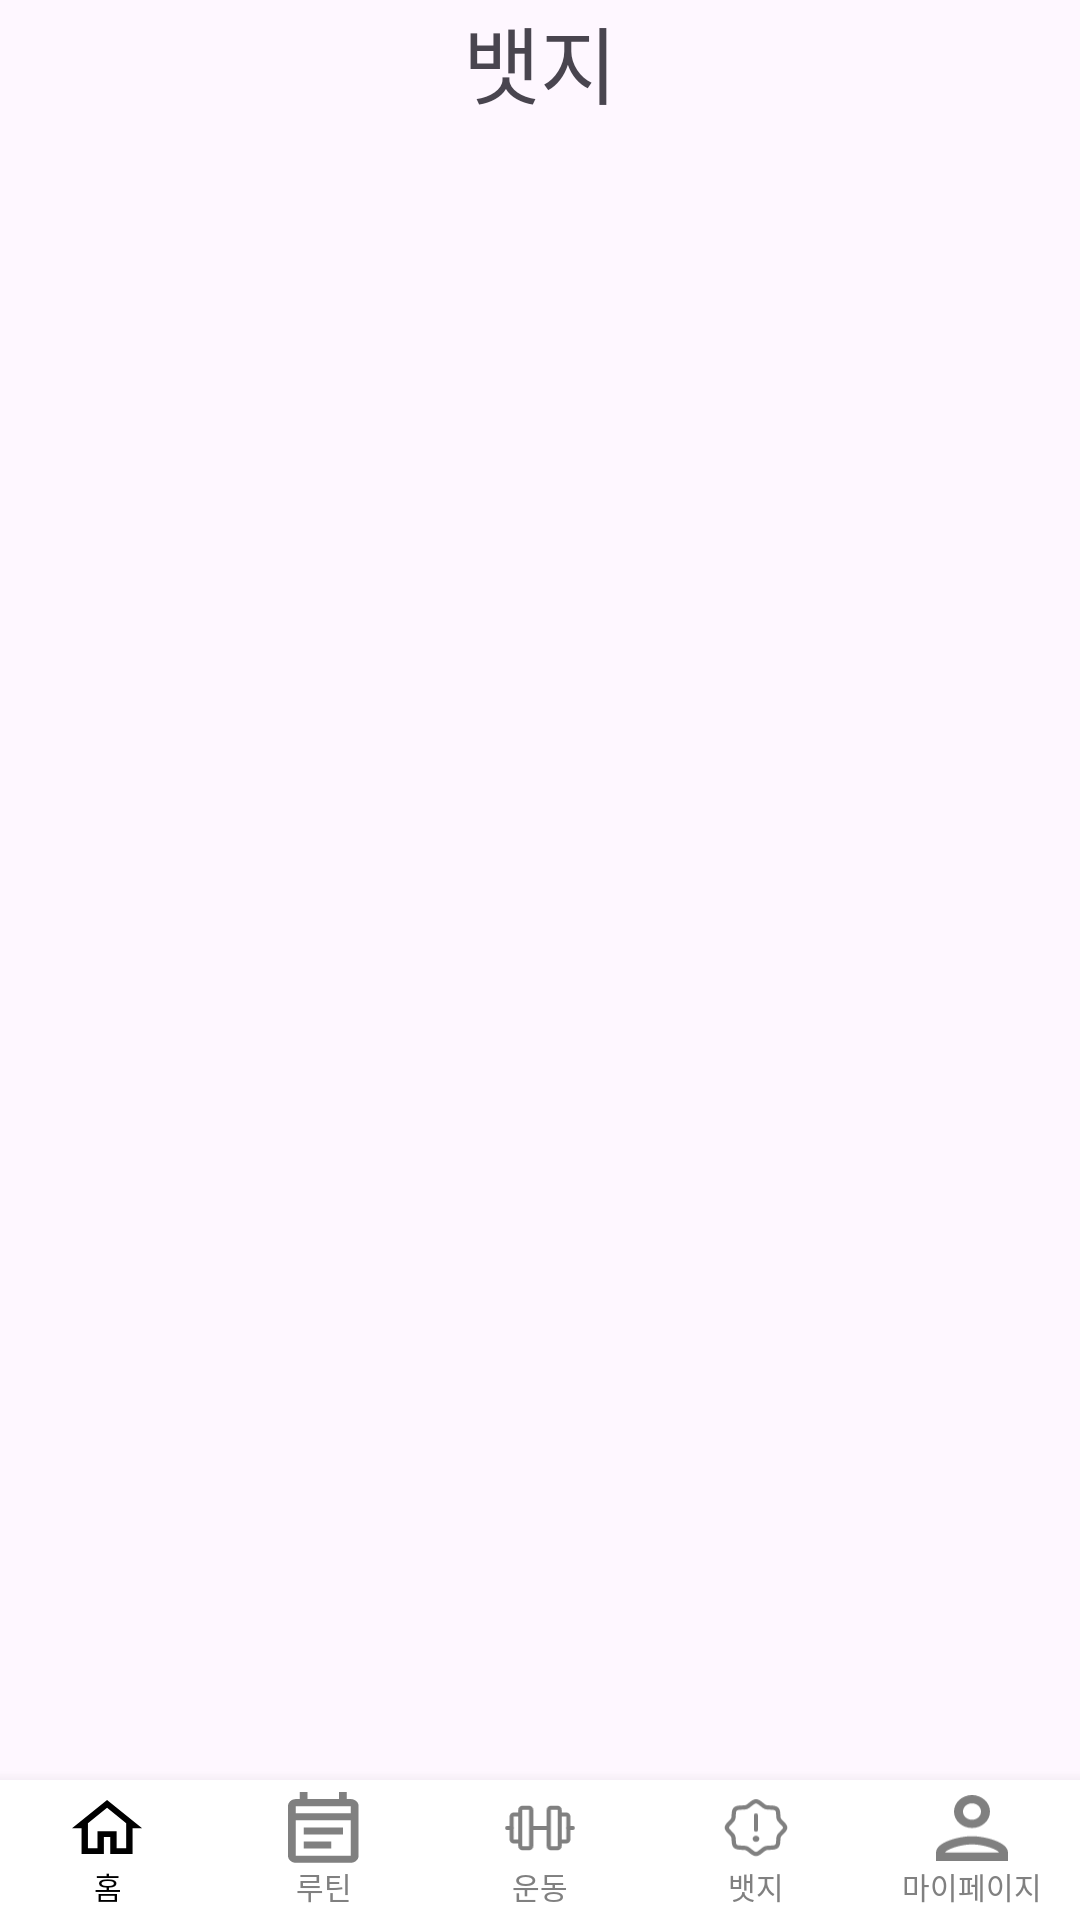

Icons on this 1080 x 1920 Android screen, each with the point to tap as [x,y]:
health: [540,1828]
